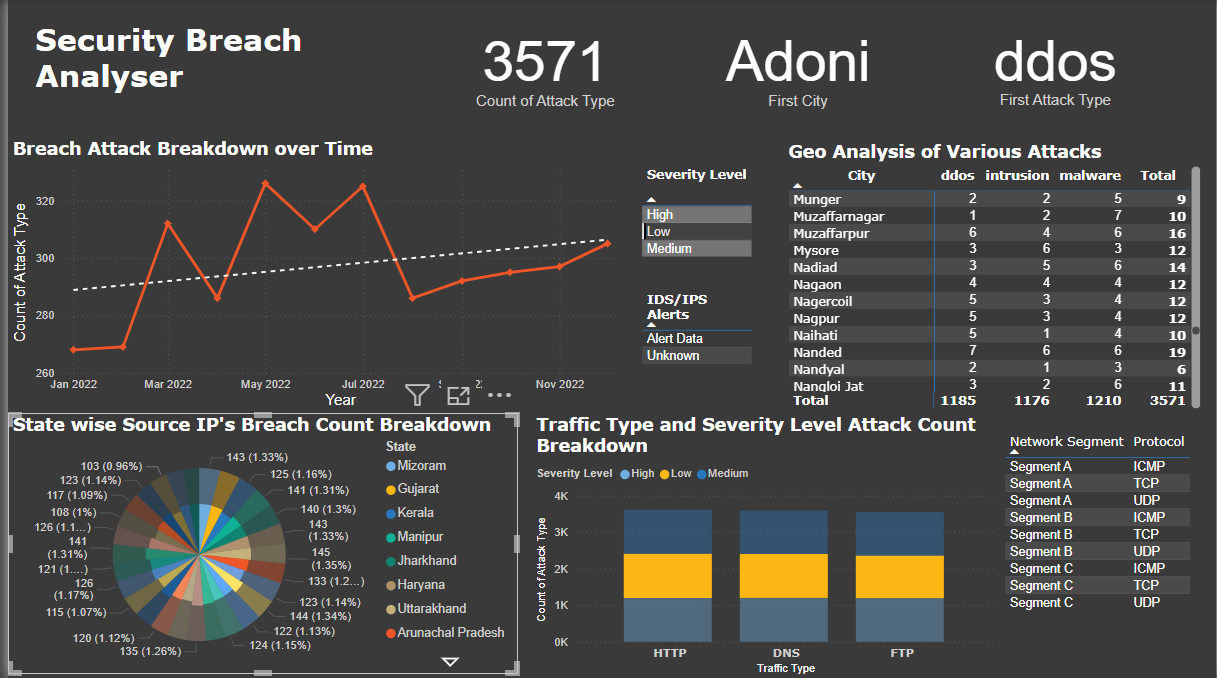

Layout of this report page (visuals, bound fields, positions):
{"tool":"powerbi","page":{"name":"Dashboard ","canvas":[1280,720],"ordinal":0},"visuals":[{"type":"lineChart","title":"Breach Attack Breakdown over Time ","fields":{"Y":["CountNonNull(cleaned_cybersecurity_attacks.Attack Type)"],"Category":["cleaned_cybersecurity_attacks.Date.Variation.Date Hierarchy.Year","cleaned_cybersecurity_attacks.Date.Variation.Date Hierarchy.Month"]},"box":[0,146.3,666.5,292.7],"z":0},{"type":"pivotTable","title":"Geo Analysis of Various Attacks ","fields":{"Columns":["cleaned_cybersecurity_attacks.Attack Type"],"Values":["CountNonNull(cleaned_cybersecurity_attacks.Attack Type)"],"Rows":["cleaned_cybersecurity_attacks.City"]},"box":[822.3,149.5,447,289.5],"z":1000},{"type":"pieChart","title":"State wise Source IP''s Breach Count Breakdown","fields":{"Category":["cleaned_cybersecurity_attacks.State"],"Y":["CountNonNull(cleaned_cybersecurity_attacks.Source IP Address)"]},"box":[0,439,540.8,276.8],"z":2000},{"type":"columnChart","title":"Traffic Type and Severity Level Attack Count Breakdown","fields":{"Y":["CountNonNull(cleaned_cybersecurity_attacks.Attack Type)"],"Category":["cleaned_cybersecurity_attacks.Traffic Type"],"Series":["cleaned_cybersecurity_attacks.Severity Level"]},"box":[555.1,439,496.3,281.5],"z":3000},{"type":"card","fields":{"Values":["Min(cleaned_cybersecurity_attacks.Attack Type)"]},"box":[986.2,14.3,248.1,109.8],"z":4000},{"type":"tableEx","fields":{"Values":["cleaned_cybersecurity_attacks.Severity Level"]},"box":[666.5,171.8,136.8,119.3],"z":5000},{"type":"tableEx","fields":{"Values":["cleaned_cybersecurity_attacks.Network Segment","cleaned_cybersecurity_attacks.Protocol"]},"box":[1051.4,454.9,217.9,251.3],"z":6000},{"type":"textbox","box":[23.9,17.5,402.4,106.6],"z":7000},{"type":"card","fields":{"Values":["Min(cleaned_cybersecurity_attacks.City)"]},"box":[688.7,14.3,297.4,111.3],"z":8000},{"type":"card","fields":{"Values":["CountNonNull(cleaned_cybersecurity_attacks.Attack Type)"]},"box":[450.1,12.7,238.6,111.3],"z":9000},{"type":"tableEx","fields":{"Values":["cleaned_cybersecurity_attacks.IDS/IPS Alerts"]},"box":[666.5,303.8,136.8,124.1],"z":10000}]}

Visuals, with their boxes in screenshot pixels (x1, y1, x2, y2), scaled from the page's 1280x720 canvas onto the 1217x678 screenshot:
"Breach Attack Breakdown over Time " lineChart: [left=0, top=138, right=634, bottom=413]
"Geo Analysis of Various Attacks " pivotTable: [left=782, top=141, right=1207, bottom=413]
"State wise Source IP''s Breach Count Breakdown" pieChart: [left=0, top=413, right=514, bottom=674]
"Traffic Type and Severity Level Attack Count Breakdown" columnChart: [left=528, top=413, right=1000, bottom=677]
card - Min(cleaned_cybersecurity_attacks.Attack Type): [left=938, top=13, right=1174, bottom=117]
tableEx - cleaned_cybersecurity_attacks.Severity Level: [left=634, top=162, right=764, bottom=274]
tableEx - cleaned_cybersecurity_attacks.Network Segment x cleaned_cybersecurity_attacks.Protocol: [left=1000, top=428, right=1207, bottom=665]
textbox: [left=23, top=16, right=405, bottom=117]
card - Min(cleaned_cybersecurity_attacks.City): [left=655, top=13, right=938, bottom=118]
card - CountNonNull(cleaned_cybersecurity_attacks.Attack Type): [left=428, top=12, right=655, bottom=117]
tableEx - cleaned_cybersecurity_attacks.IDS/IPS Alerts: [left=634, top=286, right=764, bottom=403]
